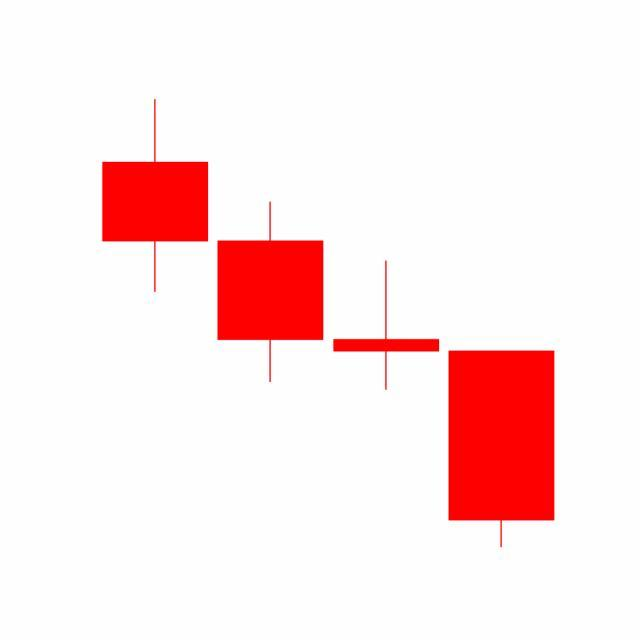Spinning Top: (329, 260, 445, 393)
